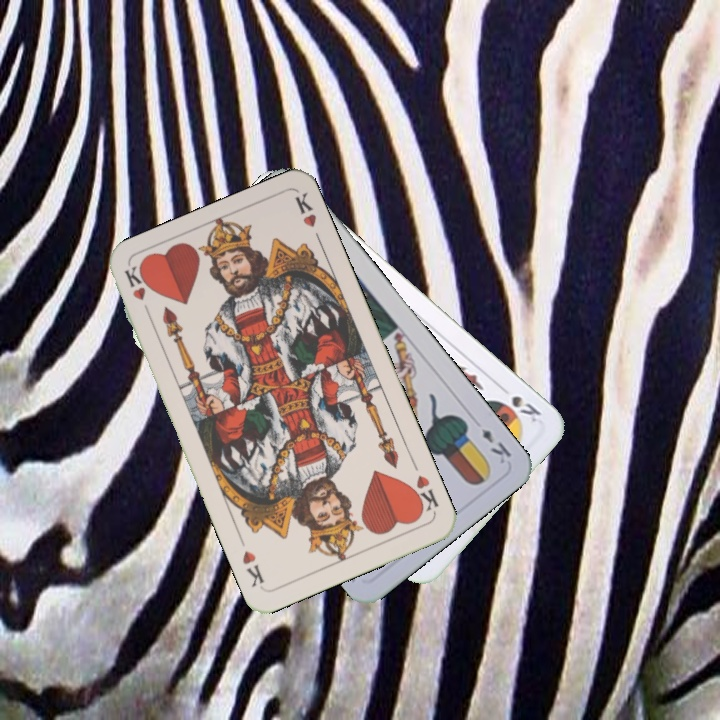EK: (477, 425, 514, 467)
HK: (120, 262, 154, 321), (406, 471, 441, 517)
SK: (507, 391, 544, 425)
